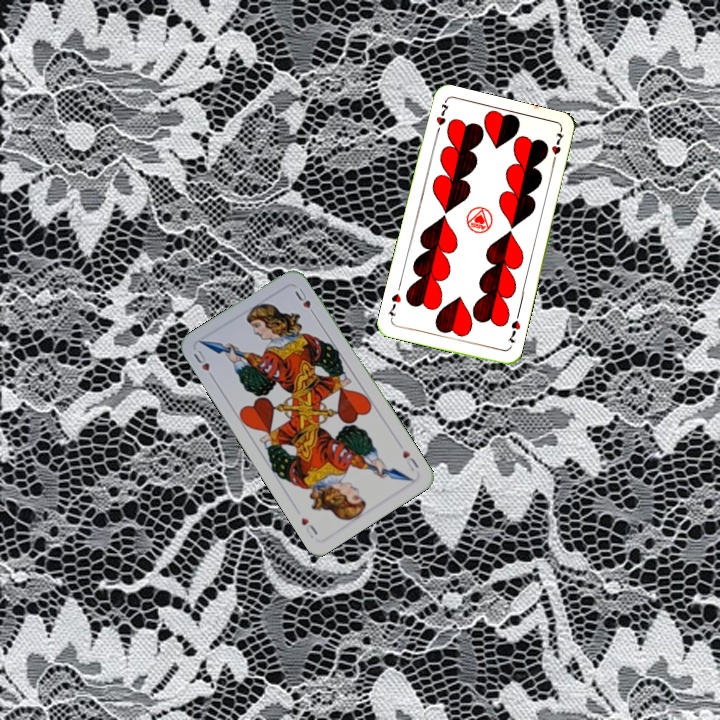H7: (432, 98, 452, 138), (504, 316, 523, 345)
HU: (189, 346, 217, 383), (398, 446, 421, 474)
